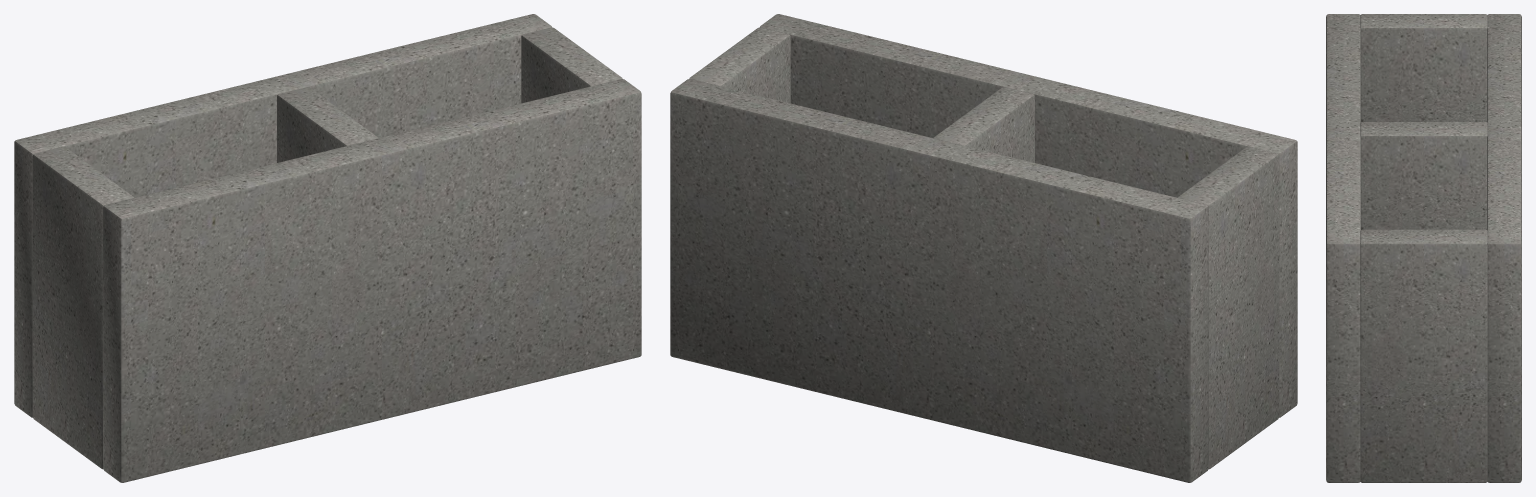
The model's file is ALV-BCO-001.glb.
The picture shows the model from 3 angles, left to right: view 1: azimuth 30°, elevation 25°; view 2: azimuth 150°, elevation 25°; view 3: azimuth 270°, elevation 25°; orthographic projection. The views are drawn at different scales.
Parts seen in each view (by area): view 1: ALV-BCO-001_pf1, ALV-BCO-001_pf2, ALV-BCO-001_t0, ALV-BCO-001_t2, ALV-BCO-001_t1; view 2: ALV-BCO-001_pf2, ALV-BCO-001_pf1, ALV-BCO-001_t0, ALV-BCO-001_t2, ALV-BCO-001_t1; view 3: ALV-BCO-001_t2, ALV-BCO-001_pf1, ALV-BCO-001_pf2, ALV-BCO-001_t1, ALV-BCO-001_t0.
Boxes of the visible parts, x1,y1,x2,y2 form: ALV-BCO-001_pf1: (103,79,641,482); ALV-BCO-001_pf2: (14,14,552,417); ALV-BCO-001_t0: (32,146,133,469); ALV-BCO-001_t2: (521,27,622,103); ALV-BCO-001_t1: (277,87,377,162); ALV-BCO-001_pf2: (670,79,1208,482); ALV-BCO-001_pf1: (759,14,1297,417); ALV-BCO-001_t0: (1178,146,1279,469); ALV-BCO-001_t2: (689,27,790,103); ALV-BCO-001_t1: (934,87,1034,162); ALV-BCO-001_t2: (1360,229,1487,482); ALV-BCO-001_pf1: (1326,14,1360,482); ALV-BCO-001_pf2: (1487,14,1521,482); ALV-BCO-001_t1: (1360,122,1487,229); ALV-BCO-001_t0: (1360,14,1487,121).
Size of the model in its own units: 0.39 by 0.19 by 0.14.
Materials: 1 (1 with a texture image).
